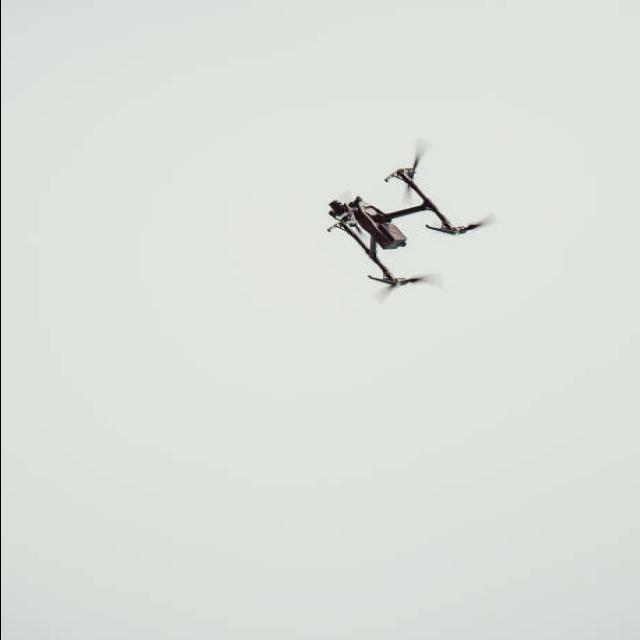drone: (326, 138, 498, 299)
